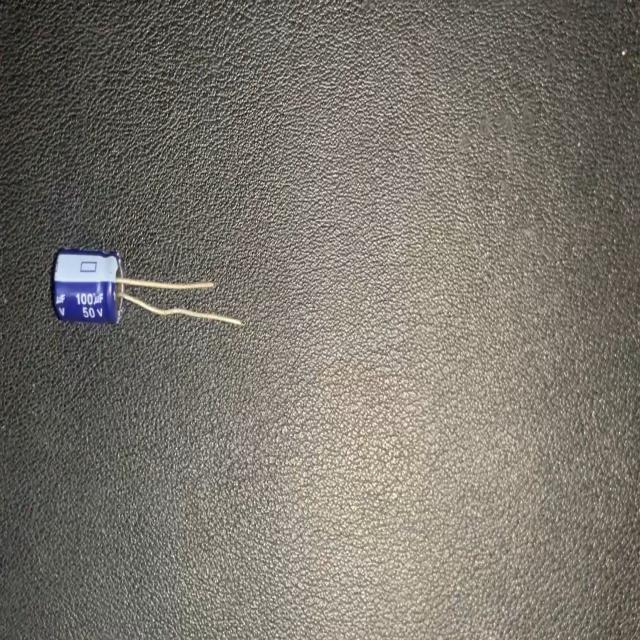capacitor: (49, 239, 245, 342)
